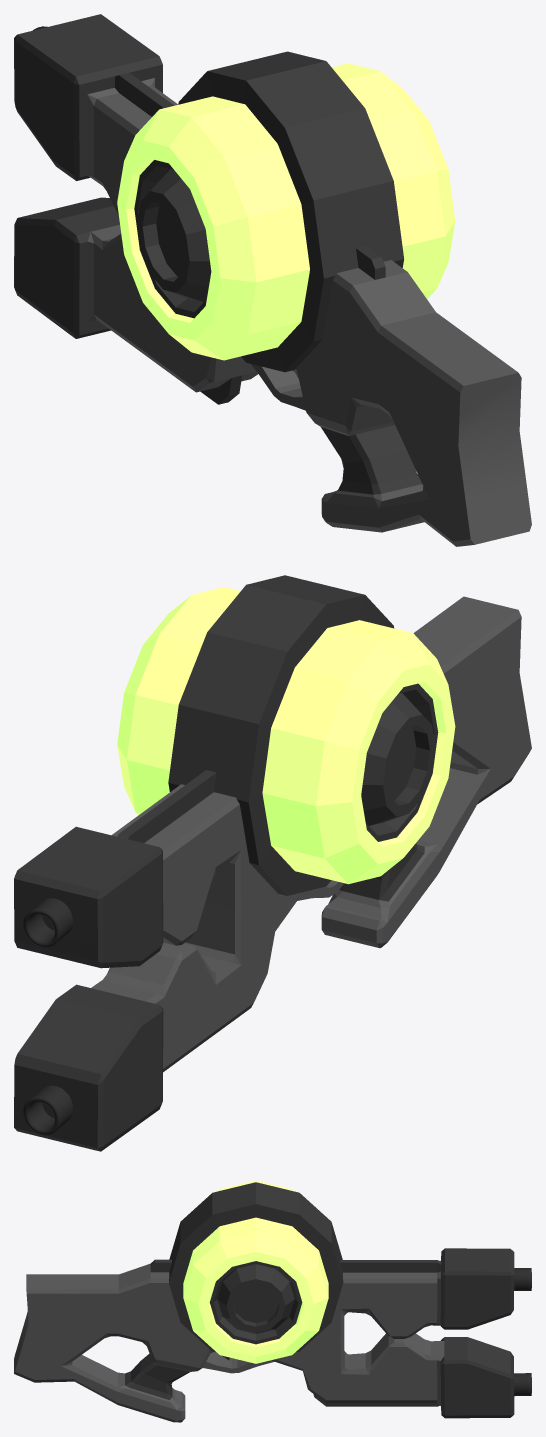
The model's file is Cubanister.fbx.
3 renders of one model, top to bottom at view 1: azimuth 30°, elevation 25°; view 2: azimuth 150°, elevation 25°; view 3: azimuth 270°, elevation 25°, orthographic. The views are drawn at different scales.
Parts seen in each view (by area): view 1: Lightning Gun; view 2: Lightning Gun, Surface.001, Surface; view 3: Lightning Gun, Surface.001, Surface.
Boxes of the visible parts, bbox=[...] form: Lightning Gun: bbox=[14, 14, 531, 546]; Lightning Gun: bbox=[14, 575, 531, 1151]; Surface.001: bbox=[23, 1085, 72, 1135]; Surface: bbox=[23, 898, 72, 947]; Lightning Gun: bbox=[14, 1180, 514, 1422]; Surface.001: bbox=[514, 1373, 531, 1396]; Surface: bbox=[514, 1268, 531, 1290].
Size of the model in its own units: 140 by 216 by 457.
